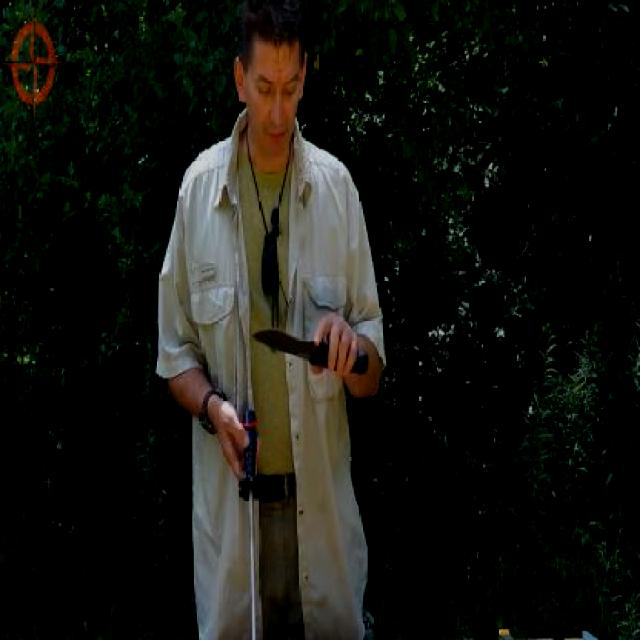knife: (251, 311, 372, 377)
